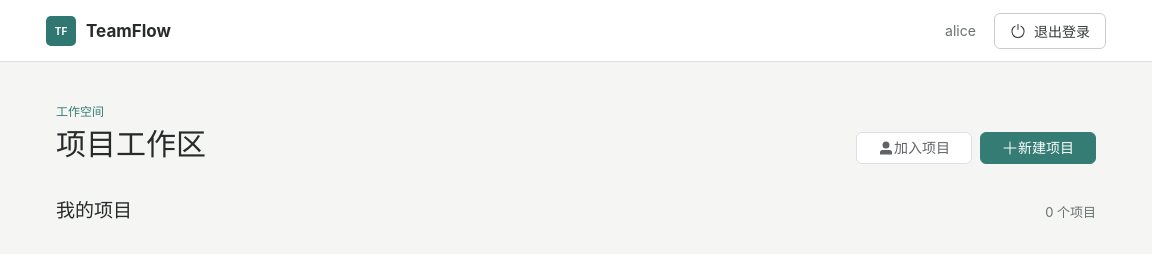
Test: DashboardView › recovers and shows a safe message when login navigation fails
Click the button with test id "logout-button": (1050, 30) [994,12,1106,48]
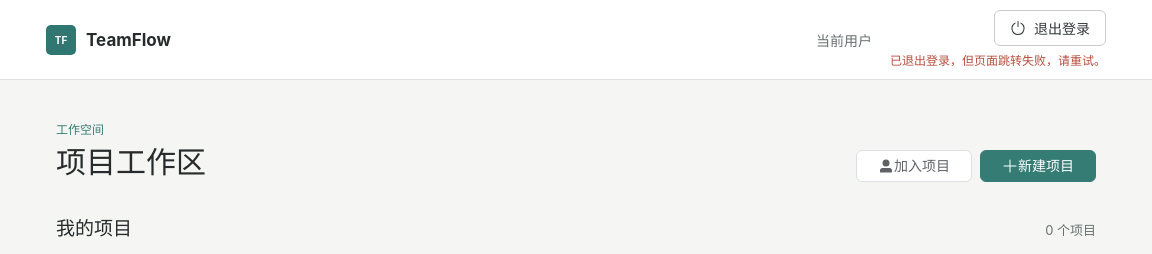
Expected: the message with test id "logout-navigation-error" reads "已退出登录，但页面跳转失败，请重试。", [890,53,1106,68]
